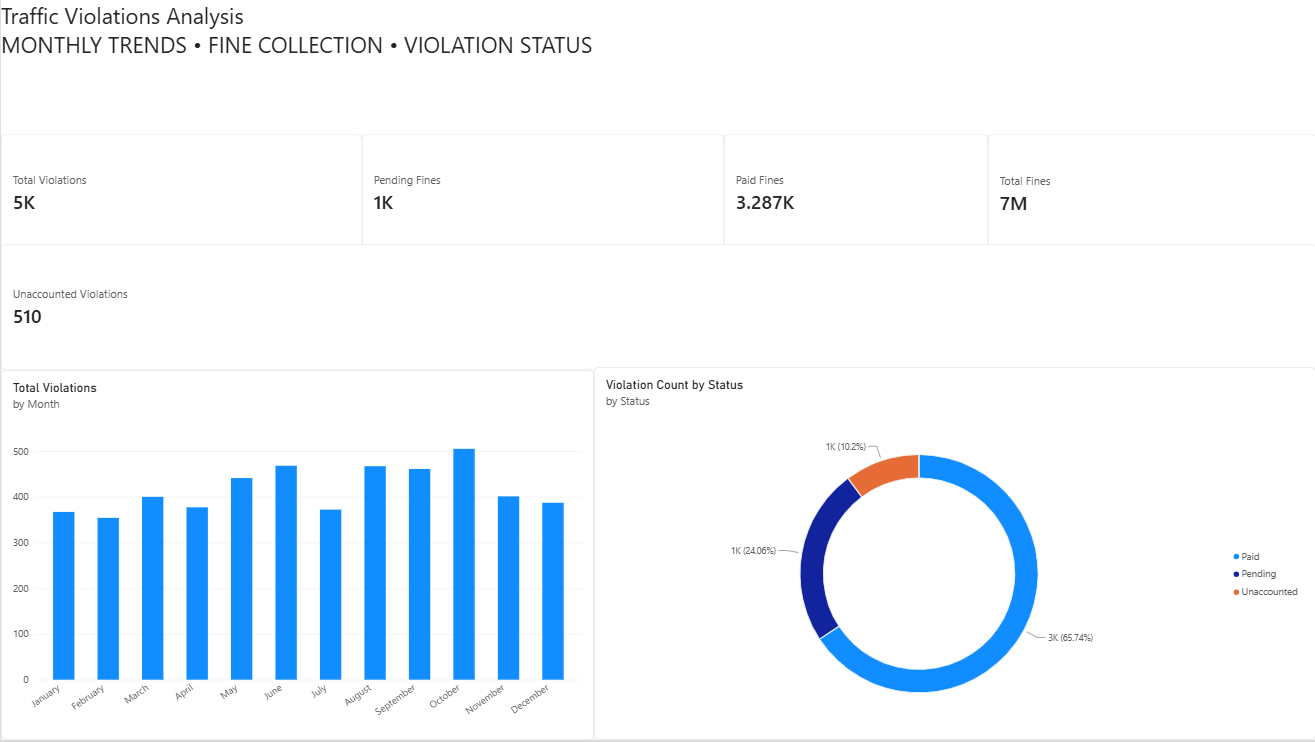

This screenshot's page, from the dashboard's own definition file:
{"tool":"powerbi","page":{"name":"Page 1","canvas":[1920,1080],"ordinal":0},"visuals":[{"type":"clusteredColumnChart","fields":{"Category":["DimMonth.Month"],"Y":["DimMonth.Total Violations"]},"box":[0,539.8,865.2,539.8],"z":0},{"type":"cardVisual","fields":{"Data":["DimMonth.Total Violations"]},"box":[0,195.5,526.7,172.2],"z":1},{"type":"cardVisual","fields":{"Data":["DimMonth.Total Fines"]},"box":[1440,195.5,480,176.5],"z":2},{"type":"cardVisual","fields":{"Data":["DimMonth.Paid Violations"]},"box":[1054.8,195.5,385.2,172.2],"z":3},{"type":"cardVisual","fields":{"Data":["DimMonth.Pending Violations"]},"box":[526.7,195.5,528.1,172.2],"z":4},{"type":"cardVisual","fields":{"Data":["DimMonth.Unaccounted Violations"]},"box":[0,356,1920,183.8],"z":5},{"type":"donutChart","fields":{"Category":["Violation Status.Status"],"Y":["Violation Status.Violation Count by Status"]},"box":[865.2,535.4,1053.4,544.2],"z":7},{"type":"textbox","box":[0,0,1918.5,195.5],"z":8}]}

Visuals, with their boxes in screenshot pixels (x1, y1, x2, y2), scaled from the page's 1920x1080 canvas onto the 1315x742 screenshot:
clusteredColumnChart - DimMonth.Month x DimMonth.Total Violations: rect(0, 371, 593, 741)
cardVisual - DimMonth.Total Violations: rect(0, 134, 361, 253)
cardVisual - DimMonth.Total Fines: rect(986, 134, 1314, 256)
cardVisual - DimMonth.Paid Violations: rect(722, 134, 986, 253)
cardVisual - DimMonth.Pending Violations: rect(361, 134, 722, 253)
cardVisual - DimMonth.Unaccounted Violations: rect(0, 245, 1314, 371)
donutChart - Violation Status.Status x Violation Status.Violation Count by Status: rect(593, 368, 1314, 741)
textbox: rect(0, 0, 1314, 134)
